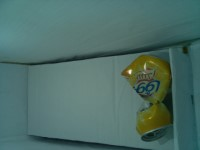kaleng: (121, 54, 172, 142)
